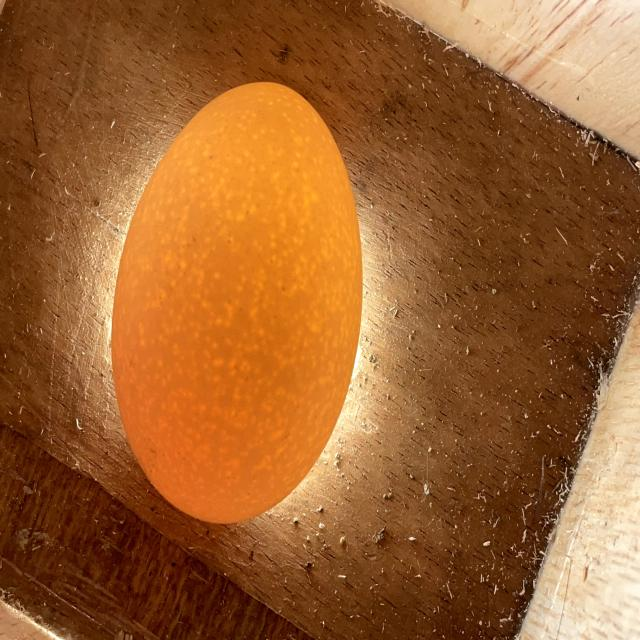infertile: (111, 83, 362, 523)
